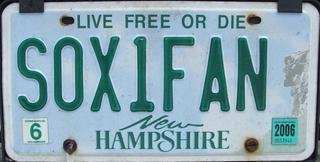placa de veiculo: (6, 1, 307, 158)
